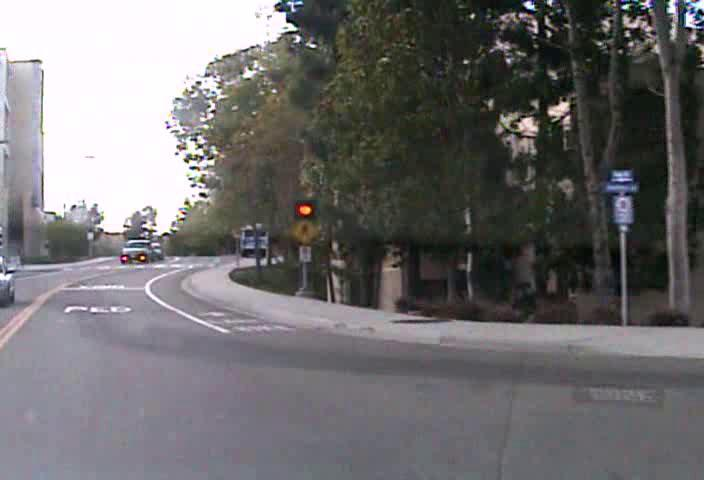pedestrianCrossing: (288, 218, 320, 245)
